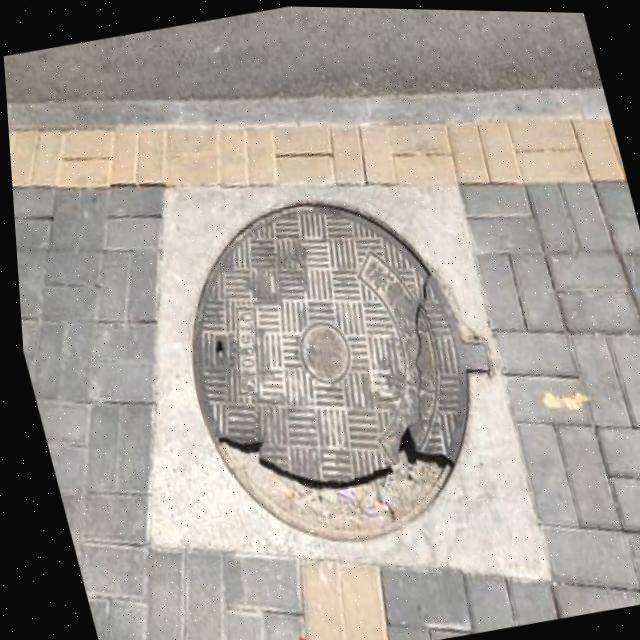manhole: (138, 155, 519, 569)
